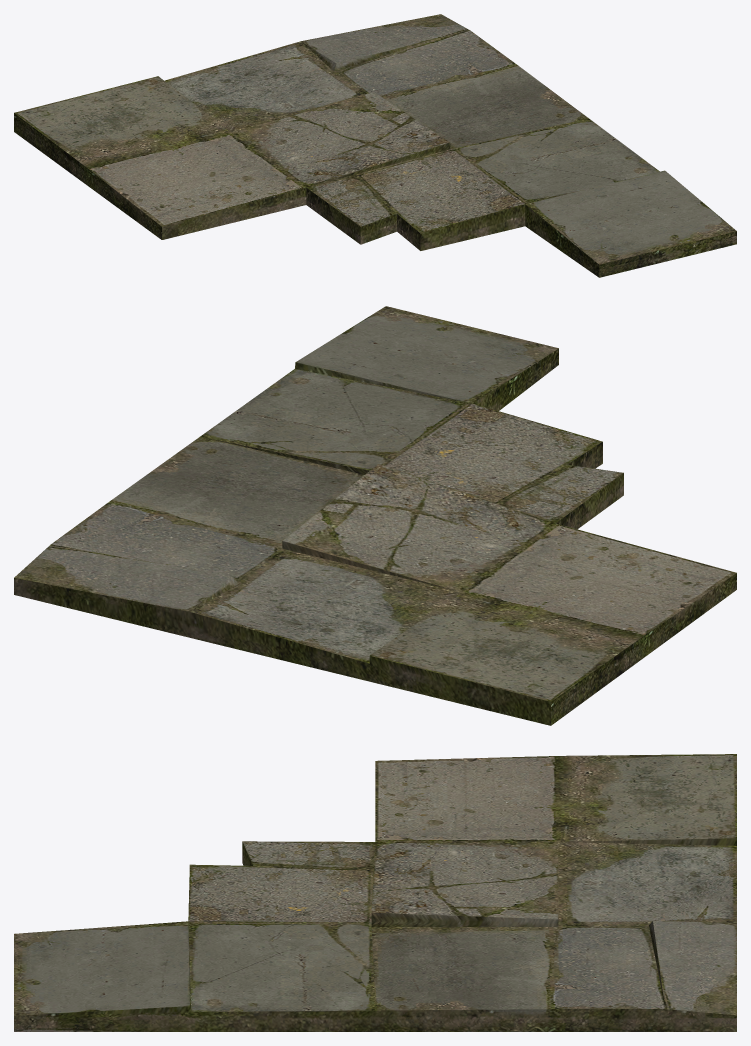
File: bg_lut_lutomb_floorpiece01_sm_old.FBX
3 views of the same model, one above another, from view 1: azimuth 30°, elevation 25°; view 2: azimuth 150°, elevation 25°; view 3: azimuth 270°, elevation 25° (orthographic). The views are drawn at different scales.
Visible parts, largest first — view 1: bg_lut_lutomb_floorpiece01_sm_old; view 2: bg_lut_lutomb_floorpiece01_sm_old; view 3: bg_lut_lutomb_floorpiece01_sm_old.
Part boxes in pixels (x1,y1,x2,y2): bg_lut_lutomb_floorpiece01_sm_old: [14, 14, 736, 277]; bg_lut_lutomb_floorpiece01_sm_old: [14, 306, 736, 725]; bg_lut_lutomb_floorpiece01_sm_old: [14, 754, 736, 1031].
Bounding box in the file's own units: 160 × 10.39 × 192.
